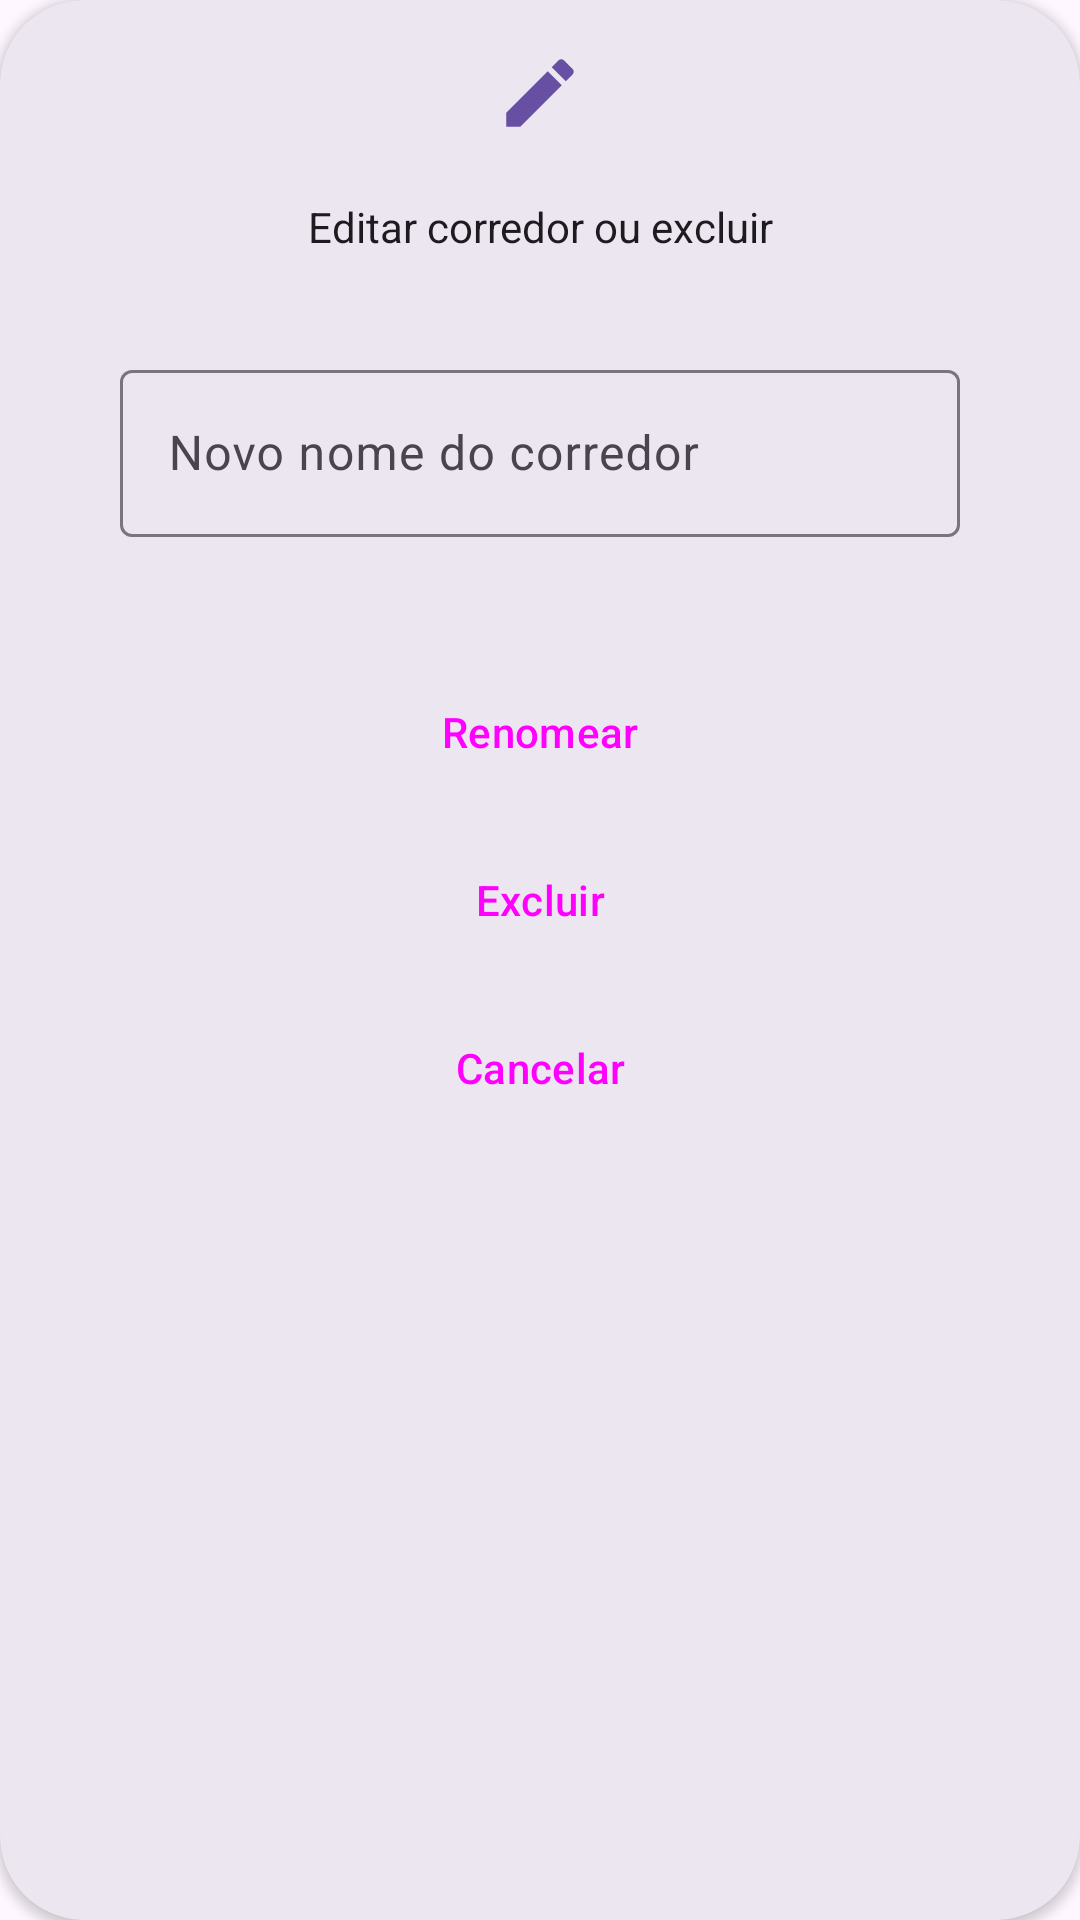

Named icons in this screenshot (1080×1920) and their centers, point (x, y):
Ícone de um lápis: point (540, 93)
